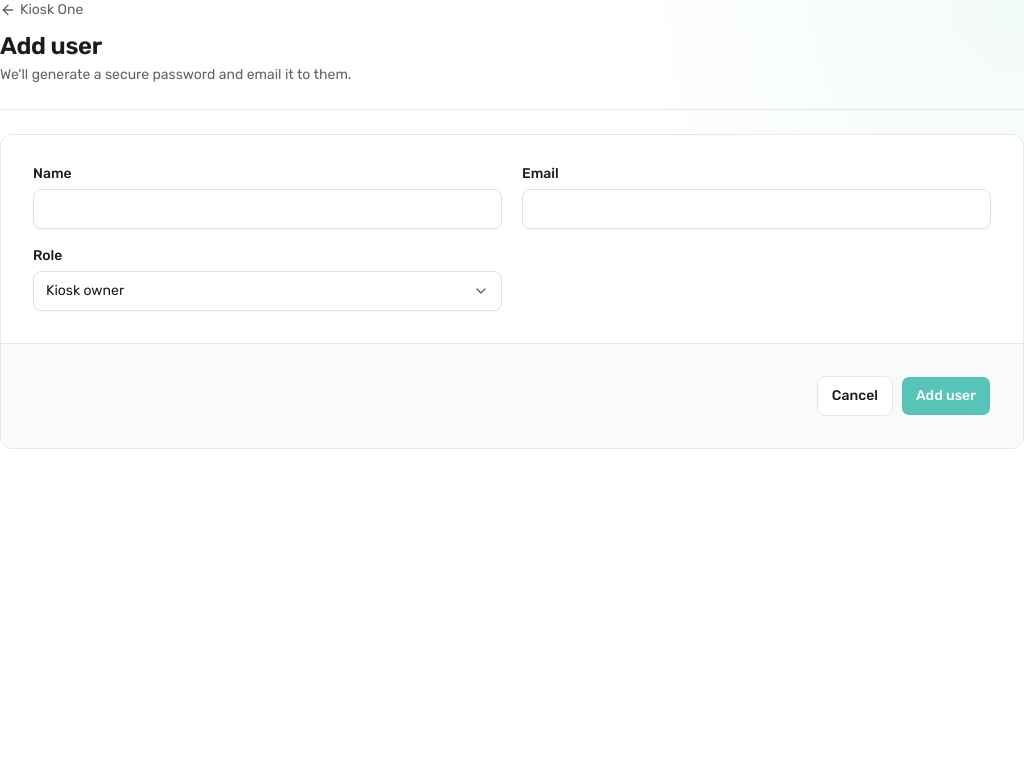
NewKioskUserPage › adds a new user and reveals the generated password as a result panel
Type "New Manager" into the field labelled "Name".
click(268, 209); type("New Manager")  # box [33,189,502,229]
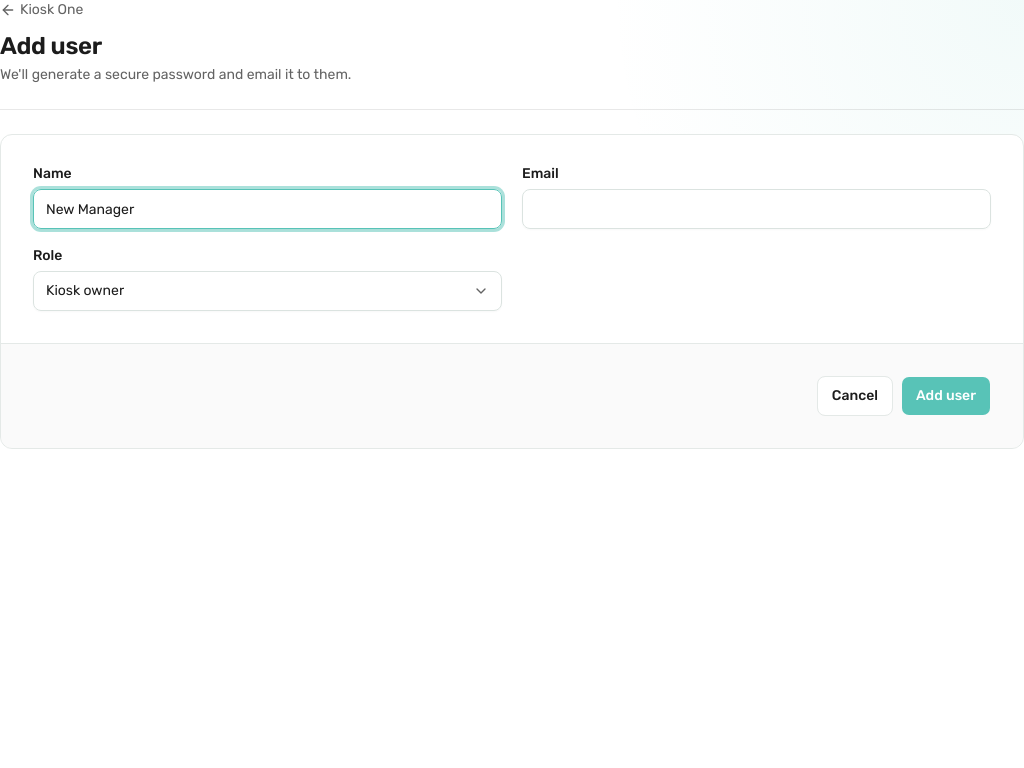
Type "manager@example.com" into the field labelled "Email".
click(756, 209); type("manager@example.com")  # box [522,189,991,229]
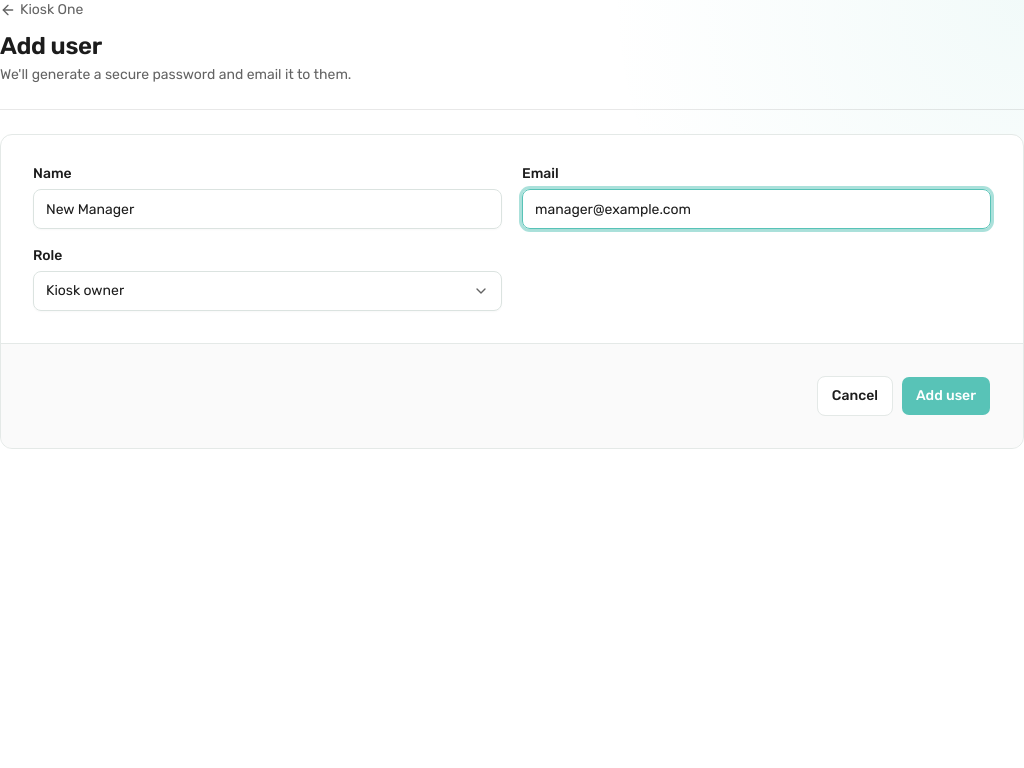
Click the dropdown.
click(85, 291)  # box [33,271,502,311]
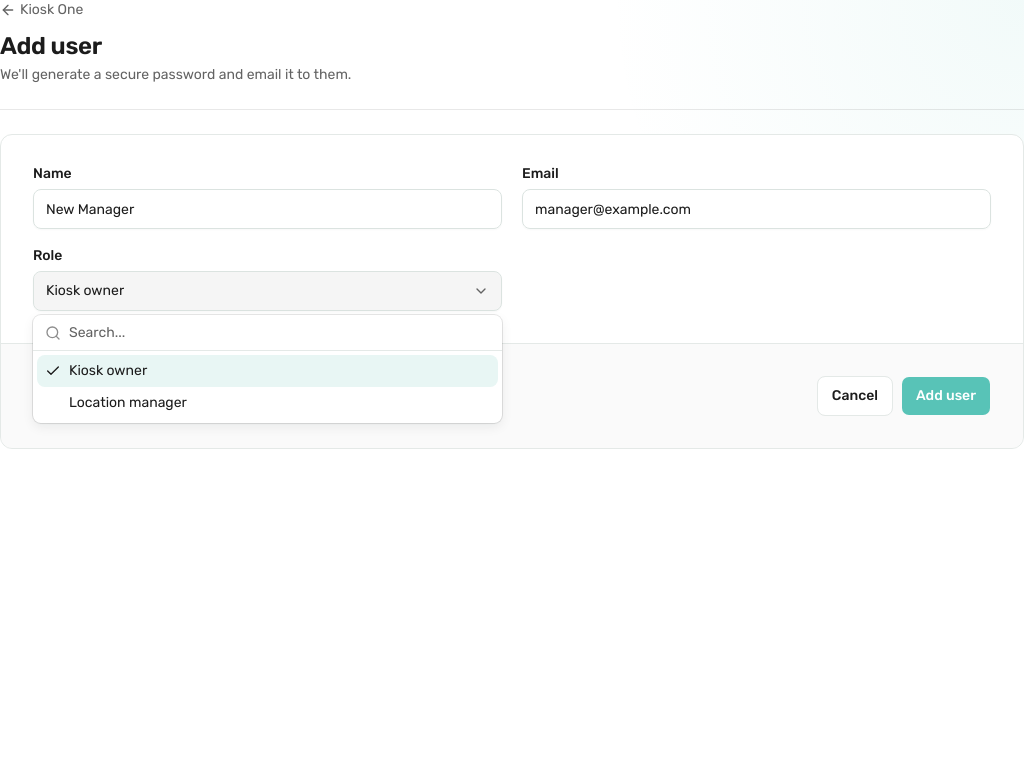
Click the option "Location manager".
click(128, 402)  # box [69,394,187,411]
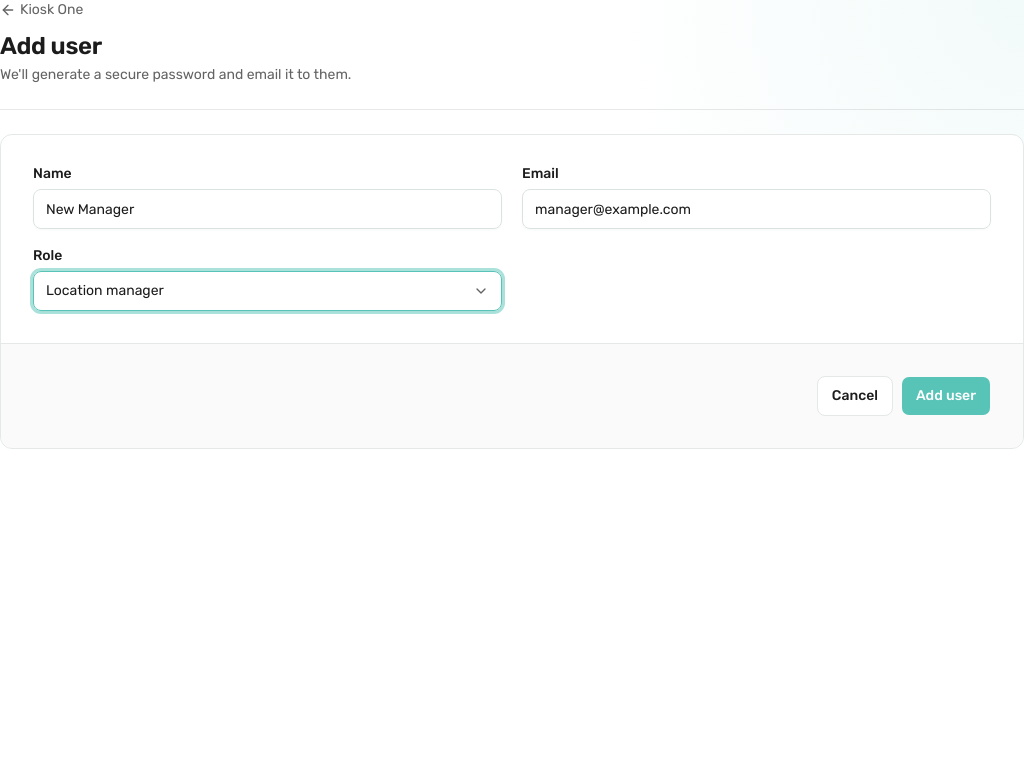
Click the button "Add user".
click(946, 396)  # box [901,376,991,416]
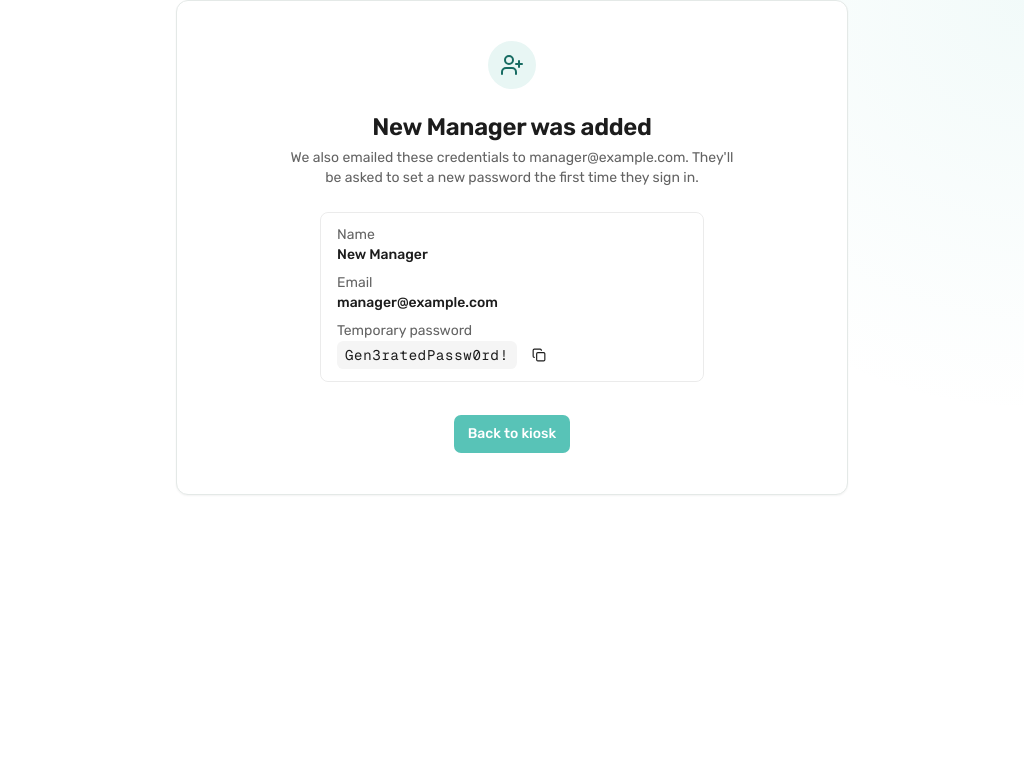
Check: the text "Gen3ratedPassw0rd!" is shown, box [337,341,517,369]
